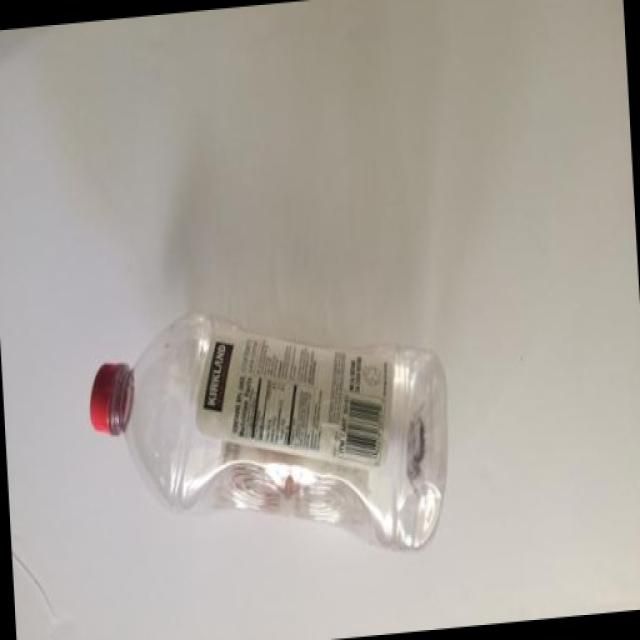plastico: (84, 304, 466, 572)
